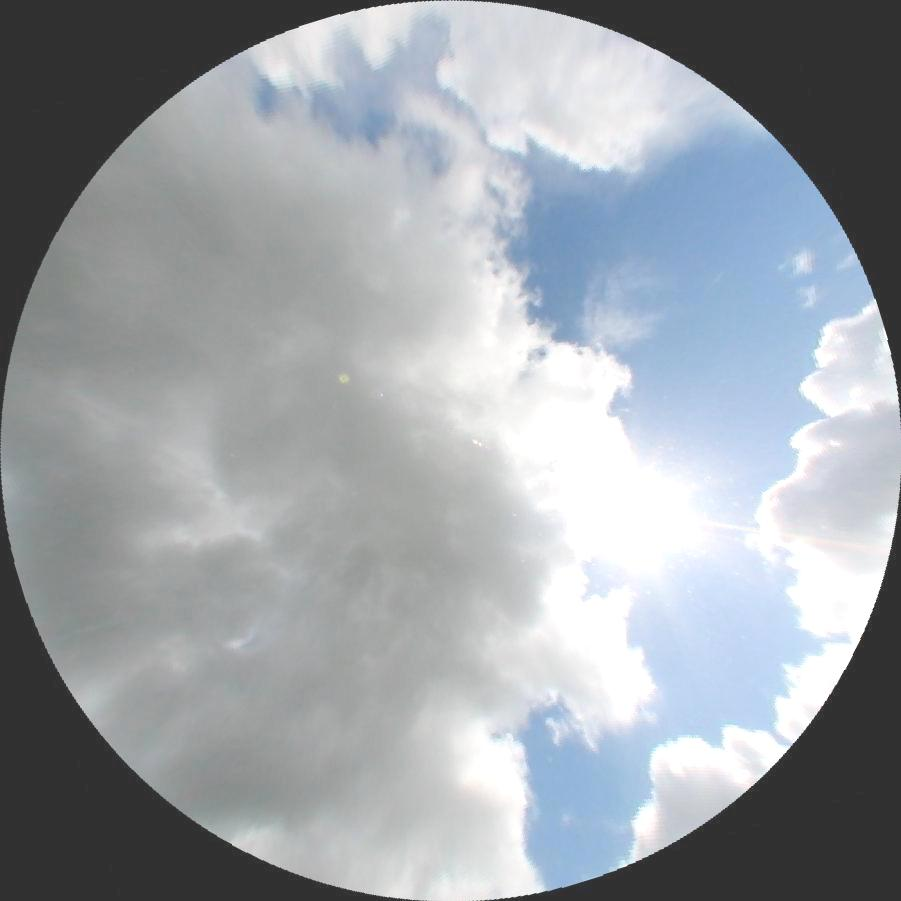contrail young: (705, 268, 724, 292)
parasite: (674, 514, 890, 555)
sun: (599, 469, 678, 558)
